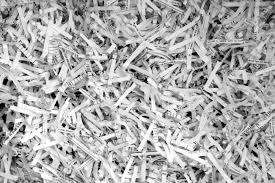Paper shavings: (2, 3, 275, 183)
